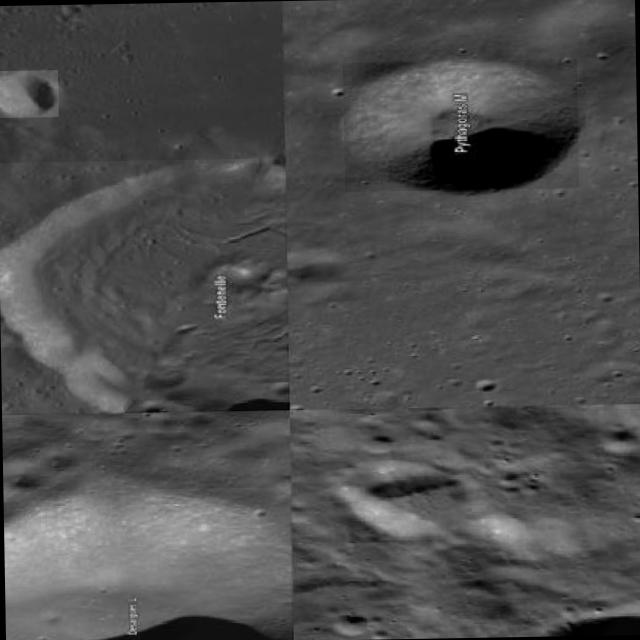crater: (0, 157, 287, 413), (3, 486, 292, 640), (343, 58, 579, 192), (0, 69, 58, 117)
